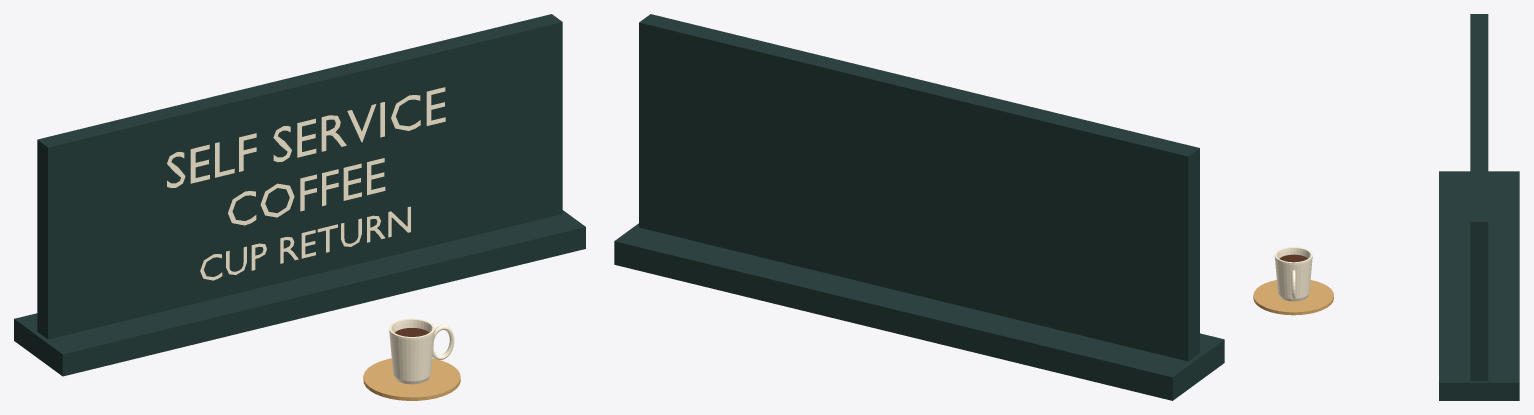
File: coffee-service.glb
3 renders of one model, left to right at view 1: azimuth 30°, elevation 25°; view 2: azimuth 150°, elevation 25°; view 3: azimuth 270°, elevation 25°, orthographic. The views are drawn at different scales.
Parts seen in each view (by area): view 1: coffee_station_sign, coffee_mug; view 2: coffee_station_sign; view 3: coffee_station_sign, coffee_mug.
Boxes of the visible parts, <box> form: coffee_station_sign: <box>14,14,585,400</box>; coffee_mug: <box>389,318,454,384</box>; coffee_station_sign: <box>614,14,1224,400</box>; coffee_station_sign: <box>1253,14,1519,400</box>; coffee_mug: <box>1274,247,1312,301</box>.
Size of the model in its own units: 1.24 by 0.493 by 0.66.
